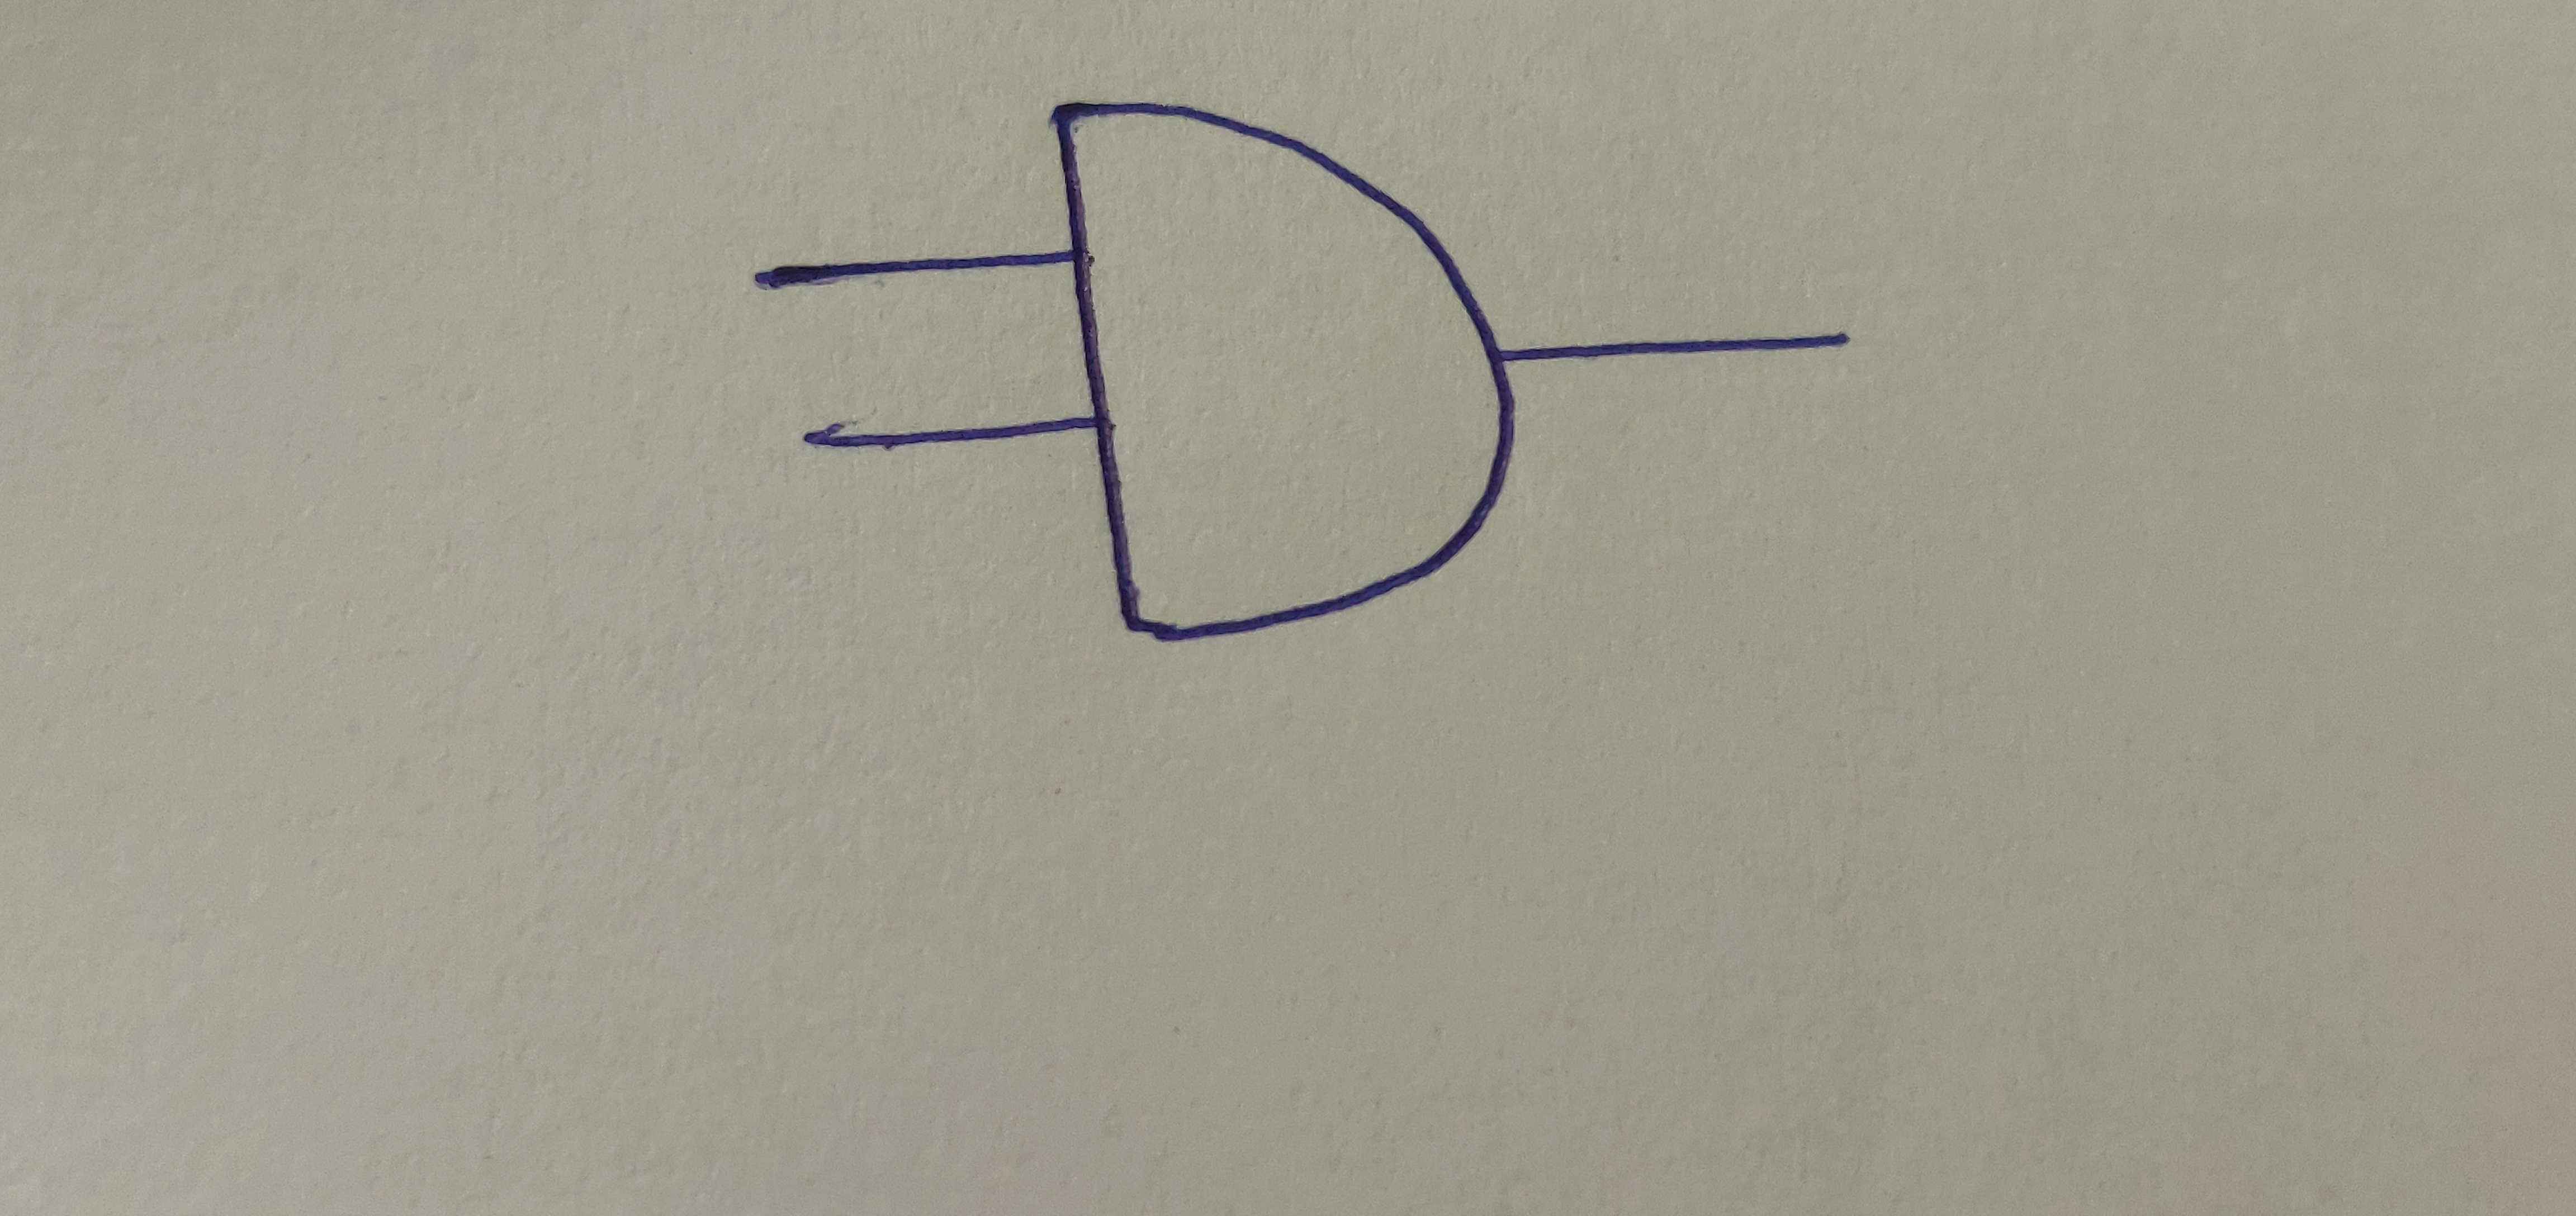and: (1046, 90, 1523, 646)
